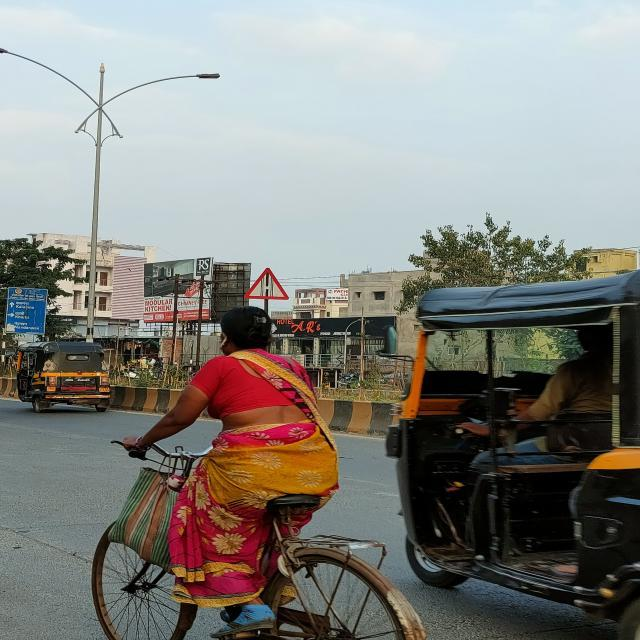gap in median: (243, 267, 290, 300)
